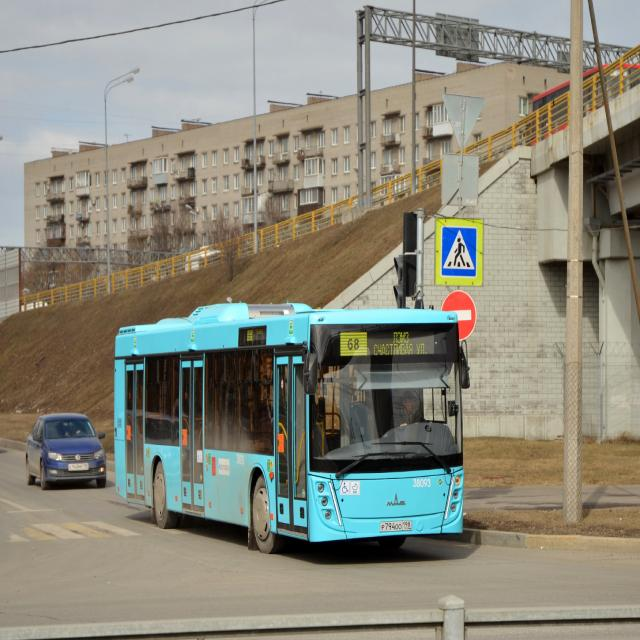number-of-bus: (345, 338, 363, 352)
